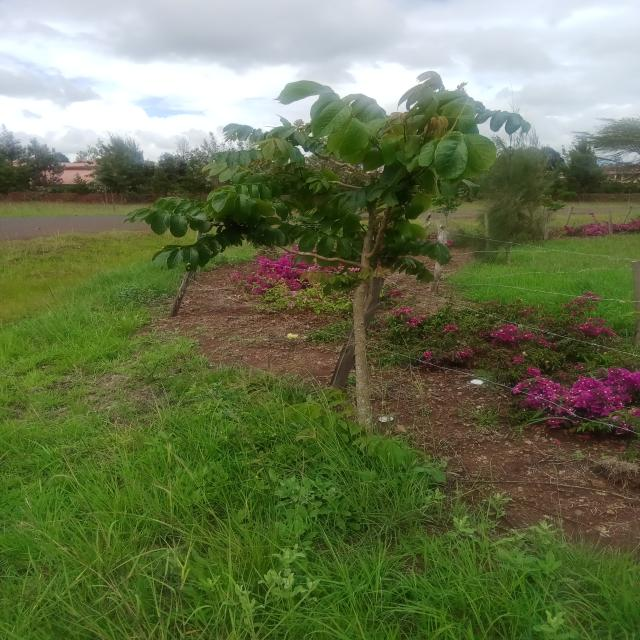Polyscias Kikuyensis: (125, 70, 534, 413)
